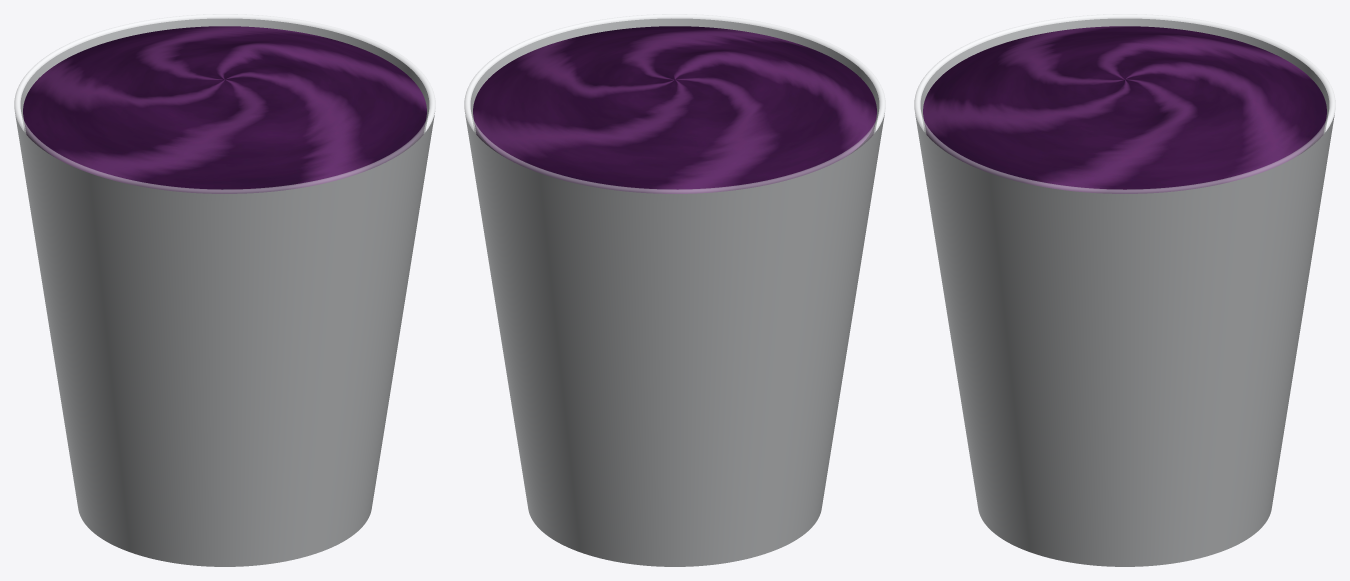
The model's file is acai-300.glb.
3 renders of one model, left to right at view 1: azimuth 30°, elevation 25°; view 2: azimuth 150°, elevation 25°; view 3: azimuth 270°, elevation 25°, orthographic.
Visible parts, largest first — view 1: acai-300_1, acai-300_0; view 2: acai-300_1, acai-300_0; view 3: acai-300_1, acai-300_0.
Boxes of the visible parts, box(x1,y1,x2,y2) form: acai-300_1: box(14, 14, 435, 566); acai-300_0: box(23, 26, 426, 193); acai-300_1: box(464, 14, 885, 566); acai-300_0: box(473, 26, 876, 193); acai-300_1: box(914, 14, 1335, 566); acai-300_0: box(923, 26, 1326, 193).
Bounding box in the file's own units: 0.086 × 0.0957 × 0.086.
Materials: 4 (2 with a texture image).
